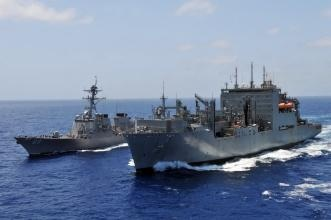warship: (125, 62, 326, 170), (12, 83, 132, 157)
